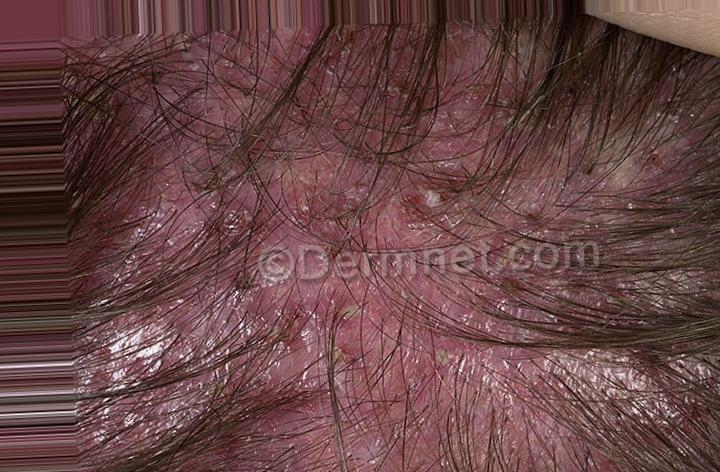Folliculitis: (299, 158, 569, 237)
